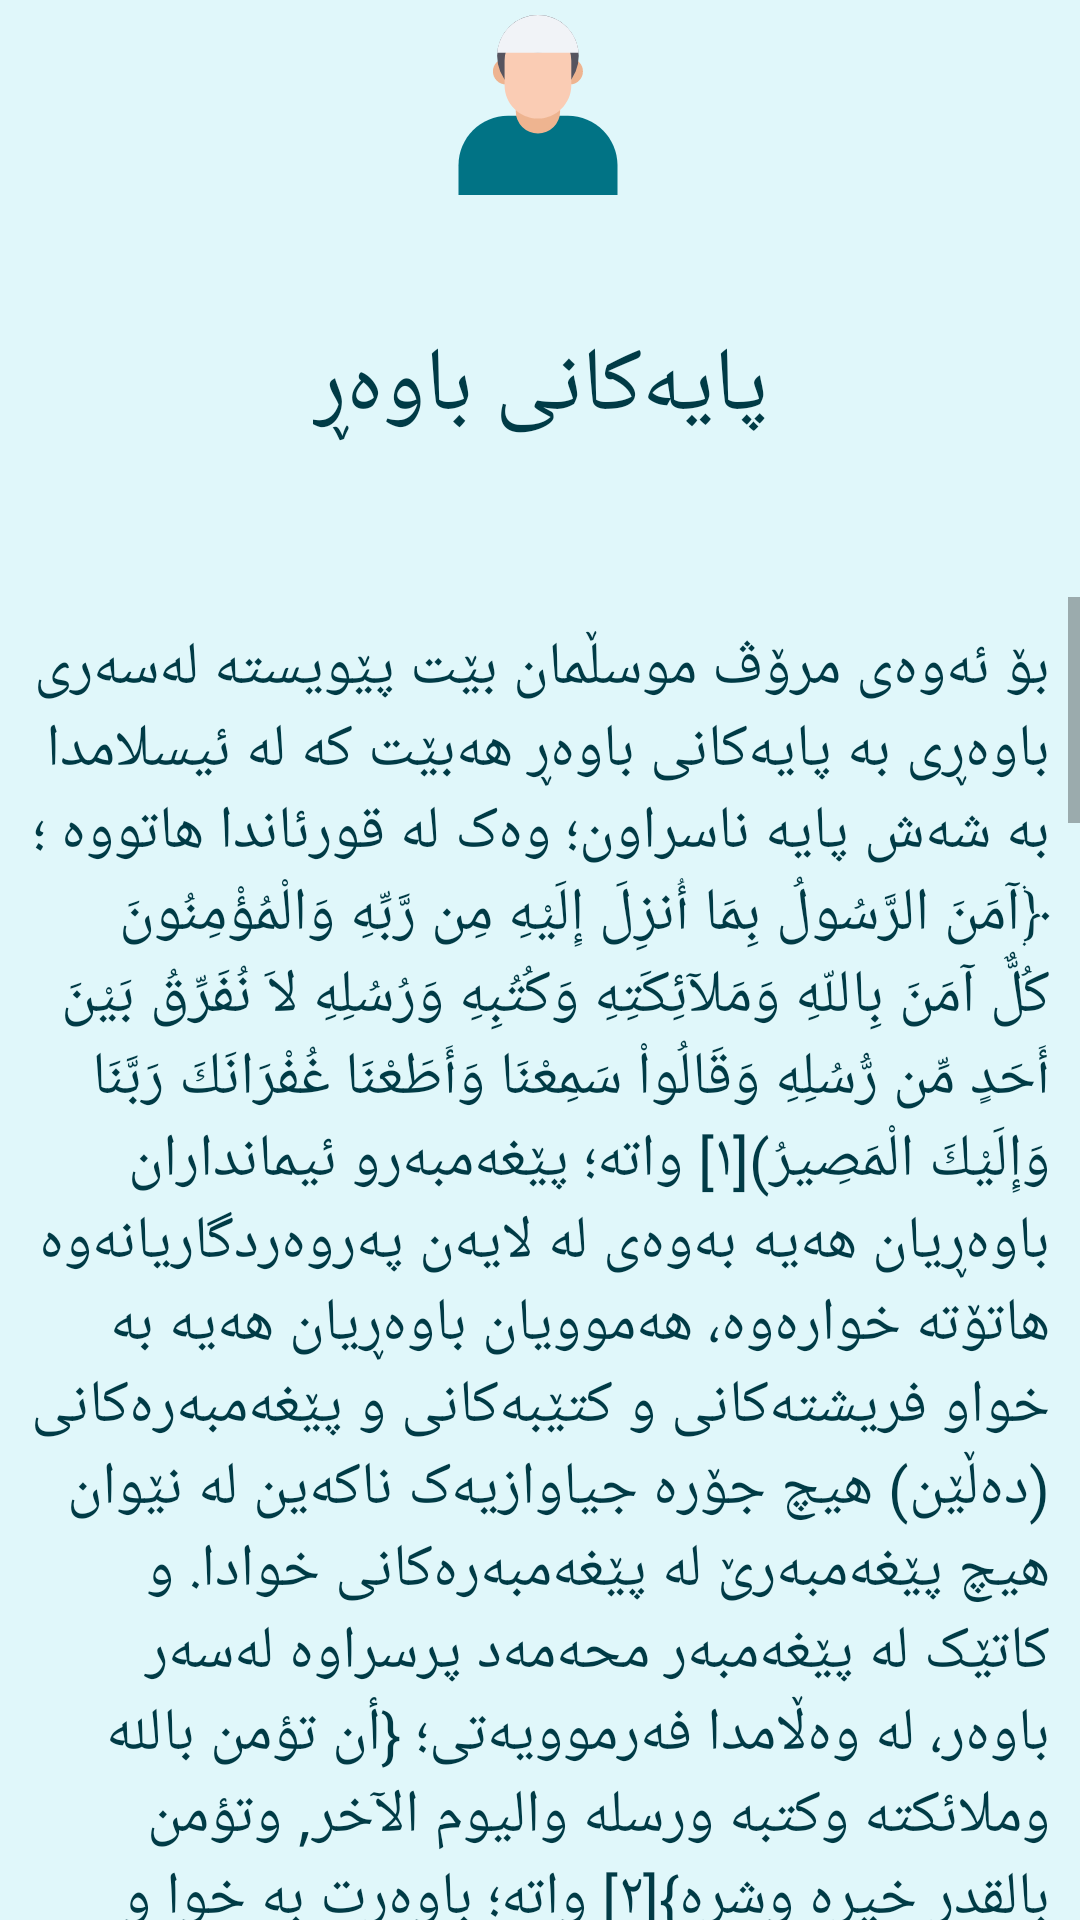

Icon bounding boxes for this 1080x1920 phone screenshot, format (x1, y1, x2, y2):
man: (458, 15, 618, 195)
